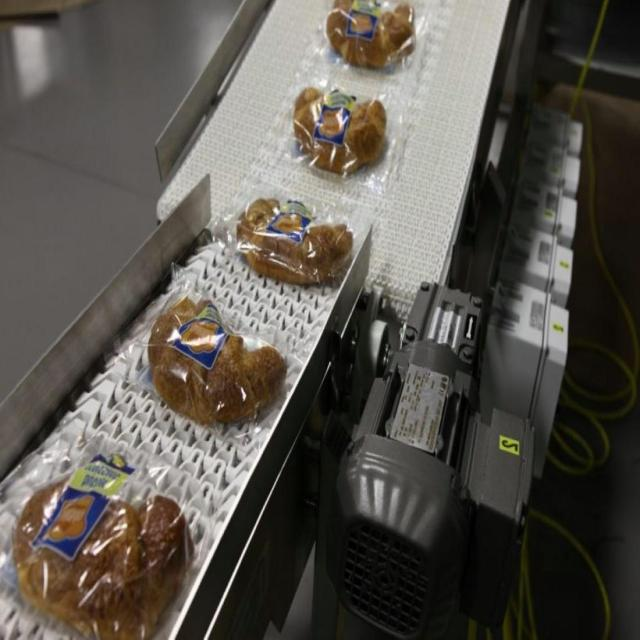food: (11, 450, 194, 638), (146, 293, 288, 427), (234, 195, 354, 286), (290, 84, 386, 178), (323, 0, 418, 72)
